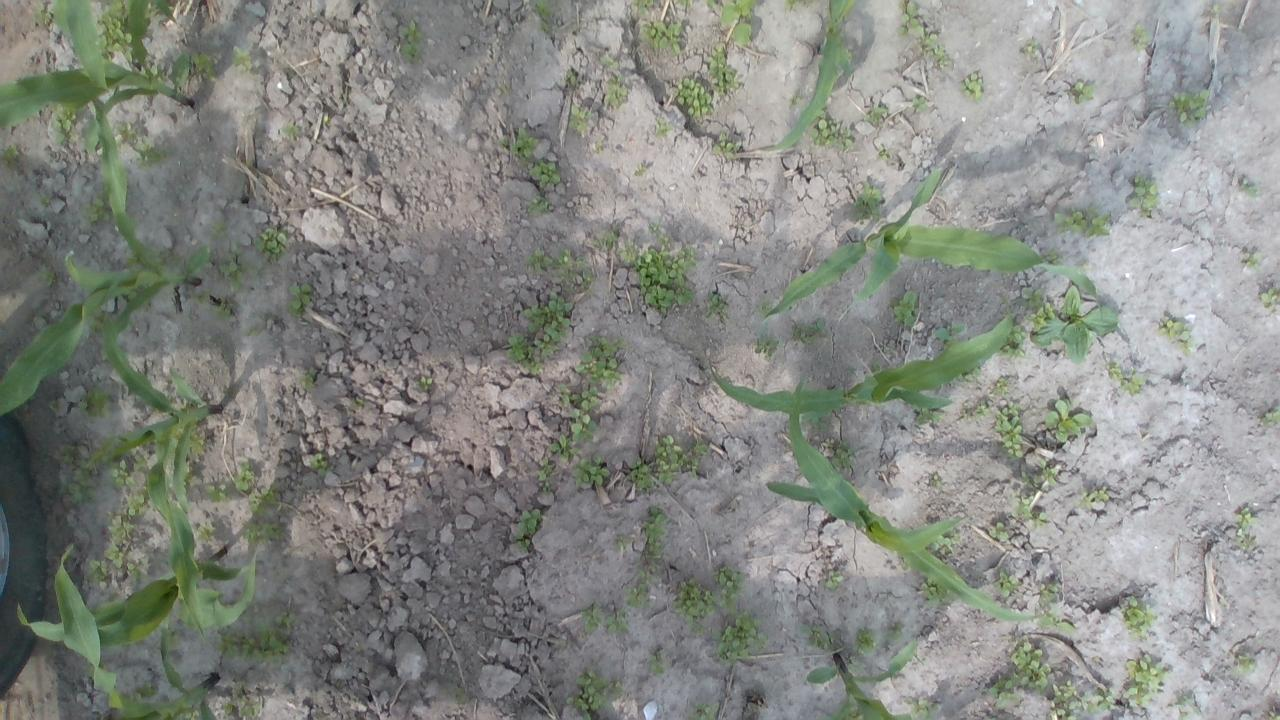Maize: (767, 377, 1040, 625), (0, 96, 210, 415), (766, 165, 1098, 318), (86, 281, 221, 636), (708, 314, 1016, 410), (55, 542, 220, 720), (15, 543, 258, 654), (0, 0, 197, 128), (740, 0, 853, 151), (804, 641, 919, 720)
Weeds: (1022, 282, 1119, 366), (624, 236, 698, 316), (519, 292, 573, 356), (710, 611, 769, 666), (574, 335, 626, 391), (670, 576, 720, 625), (1010, 636, 1052, 694), (567, 672, 625, 712), (1044, 398, 1094, 444), (90, 0, 128, 56), (565, 384, 602, 441), (255, 614, 296, 664), (1126, 653, 1164, 706), (995, 402, 1027, 461), (104, 510, 136, 568), (65, 453, 98, 505), (654, 432, 686, 485), (640, 17, 682, 57), (1054, 207, 1110, 237), (1166, 90, 1210, 128), (1120, 596, 1156, 642), (719, 0, 755, 46), (640, 505, 669, 562), (220, 242, 252, 292), (705, 46, 737, 96), (676, 78, 714, 120), (505, 334, 543, 376), (807, 116, 853, 150), (712, 565, 744, 613), (849, 179, 883, 224), (556, 248, 592, 287), (215, 625, 255, 660), (1128, 175, 1158, 220), (574, 452, 611, 488), (76, 384, 112, 420), (915, 32, 947, 71), (514, 507, 541, 553), (80, 188, 114, 224), (103, 450, 135, 488), (253, 228, 288, 262), (1048, 680, 1077, 720), (790, 318, 831, 346), (894, 0, 924, 37), (892, 290, 920, 328), (1232, 506, 1256, 550), (918, 575, 952, 606), (526, 159, 561, 189), (997, 323, 1026, 358), (1078, 688, 1114, 716), (286, 282, 314, 318), (132, 138, 168, 166), (400, 20, 424, 62), (934, 322, 966, 352), (958, 72, 988, 104), (510, 127, 538, 161), (629, 456, 657, 490), (238, 522, 280, 544), (188, 50, 218, 80), (246, 487, 277, 516), (52, 111, 78, 145), (1036, 611, 1078, 632), (988, 678, 1017, 708), (549, 433, 576, 465), (991, 569, 1020, 598), (154, 246, 184, 272), (712, 132, 738, 162), (929, 528, 960, 552), (704, 292, 730, 320), (622, 584, 650, 610), (906, 696, 936, 720), (86, 557, 110, 587), (526, 248, 556, 272), (1158, 318, 1190, 340), (567, 102, 593, 129), (1175, 694, 1202, 720), (1068, 80, 1096, 105), (1118, 370, 1146, 395), (852, 623, 876, 652), (1081, 488, 1110, 512), (580, 601, 602, 632), (1127, 22, 1153, 48), (0, 142, 24, 170), (533, 0, 554, 32), (605, 76, 627, 106), (914, 405, 944, 427), (132, 680, 158, 704), (230, 46, 254, 72), (962, 400, 990, 422), (833, 439, 854, 468), (1036, 460, 1059, 486), (526, 195, 553, 217), (310, 452, 331, 480), (126, 556, 146, 584), (536, 460, 552, 495), (606, 610, 629, 634), (125, 494, 148, 518), (1012, 496, 1035, 520), (864, 103, 888, 126), (1232, 653, 1257, 675), (32, 0, 53, 26), (236, 463, 256, 490), (597, 227, 621, 249), (124, 250, 148, 272), (810, 411, 834, 433), (1038, 581, 1059, 606), (168, 704, 200, 720), (296, 367, 318, 390), (112, 121, 138, 140), (647, 654, 666, 679), (752, 340, 778, 358), (956, 365, 980, 384), (1242, 178, 1264, 198), (694, 702, 718, 720), (1262, 403, 1280, 427), (196, 523, 216, 544), (148, 62, 169, 82), (631, 0, 655, 17), (130, 447, 146, 472), (1260, 286, 1280, 306), (822, 570, 844, 588), (1040, 248, 1062, 266), (238, 702, 264, 717), (990, 521, 1009, 541), (991, 376, 1010, 396), (638, 565, 658, 584), (1244, 250, 1262, 271), (206, 484, 228, 501), (556, 383, 572, 406), (212, 304, 232, 322), (655, 118, 673, 138), (813, 630, 831, 649), (1104, 362, 1122, 380), (192, 289, 210, 306), (414, 374, 432, 391), (1022, 38, 1038, 56), (1176, 338, 1192, 356), (884, 626, 901, 642), (876, 145, 892, 162), (912, 95, 928, 112), (1032, 512, 1047, 530), (222, 697, 238, 713), (188, 434, 204, 450), (61, 446, 74, 465), (212, 222, 225, 241), (901, 556, 917, 571), (39, 270, 56, 284), (788, 94, 803, 109), (684, 455, 699, 470), (782, 0, 802, 11), (285, 123, 300, 137), (691, 442, 706, 456), (615, 536, 628, 552), (758, 304, 772, 318), (1021, 472, 1036, 485), (39, 192, 52, 206), (564, 70, 579, 82), (1267, 708, 1280, 720), (930, 473, 941, 487), (648, 222, 659, 233), (693, 626, 704, 636), (499, 136, 510, 146), (872, 360, 882, 371), (676, 0, 691, 7), (706, 0, 716, 10), (248, 327, 258, 337), (582, 713, 592, 720)
